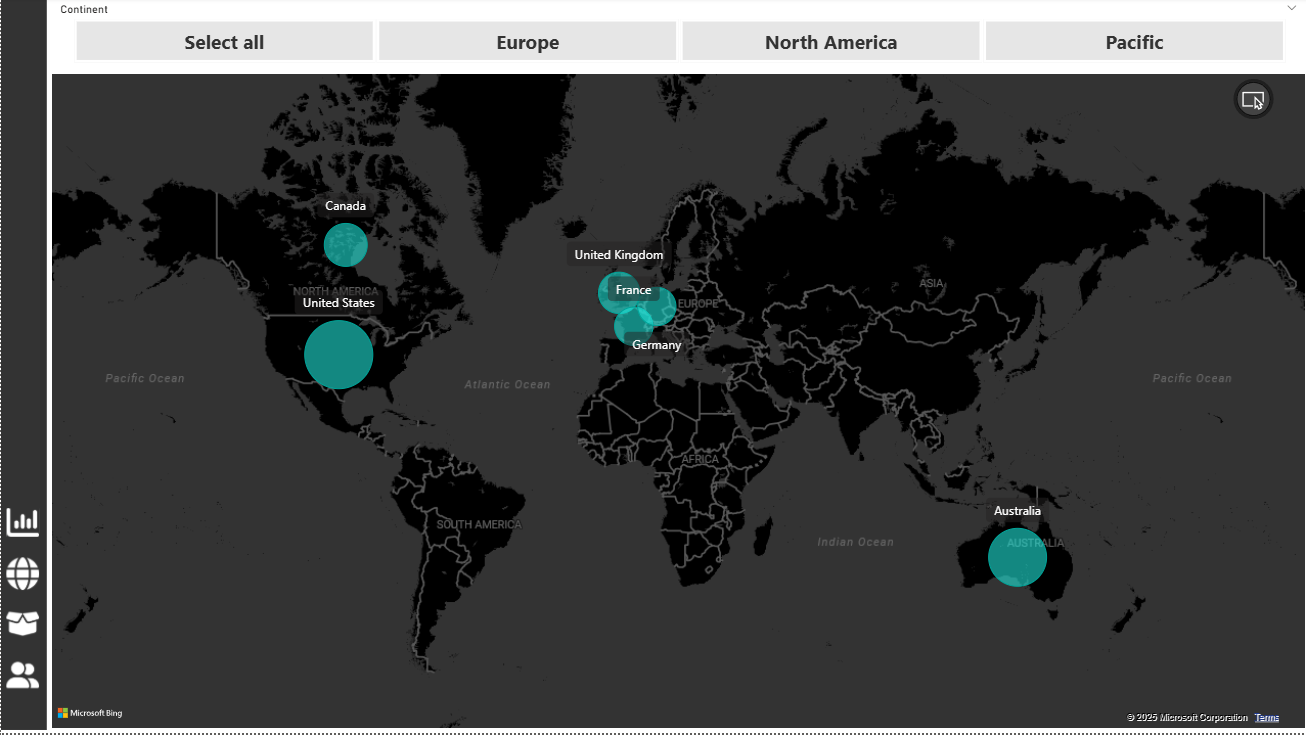

The page's visual inventory and layout, read from the dashboard file:
{"tool":"powerbi","page":{"name":"Map","canvas":[1280,720],"ordinal":1},"visuals":[{"type":"shape","box":[0,0,45,720.2],"z":0},{"type":"actionButton","box":[1.2,494,41.6,40.4],"z":0,"group":"g1"},{"type":"map","fields":{"Category":["Territory Lookup.Country"],"Size":["Measure Table.Total Orders"]},"box":[45.2,70.9,1235.1,649.3],"z":1000},{"type":"actionButton","box":[1.2,593.5,41.6,40.4],"z":1000,"group":"g1"},{"type":"slicer","fields":{"Values":["Territory Lookup.Continent"]},"box":[45.2,0,1235.1,70.9],"z":2000},{"type":"actionButton","box":[1.2,543.7,41.6,40.4],"z":2000,"group":"g1"},{"type":"group","id":"g1","title":"Navigation Button","box":[1.2,494,41.6,189.5],"z":3000},{"type":"actionButton","box":[1.2,643.2,41.6,40.4],"z":3000,"group":"g1"}]}

Visuals, with their boxes in screenshot pixels (x1, y1, x2, y2):
shape: locate(0, 0, 45, 725)
actionButton: locate(1, 497, 43, 538)
map - Territory Lookup.Country x Measure Table.Total Orders: locate(45, 71, 1288, 725)
actionButton: locate(1, 597, 43, 638)
slicer - Territory Lookup.Continent: locate(45, 0, 1288, 71)
actionButton: locate(1, 547, 43, 588)
"Navigation Button" group: locate(1, 497, 43, 688)
actionButton: locate(1, 647, 43, 688)
